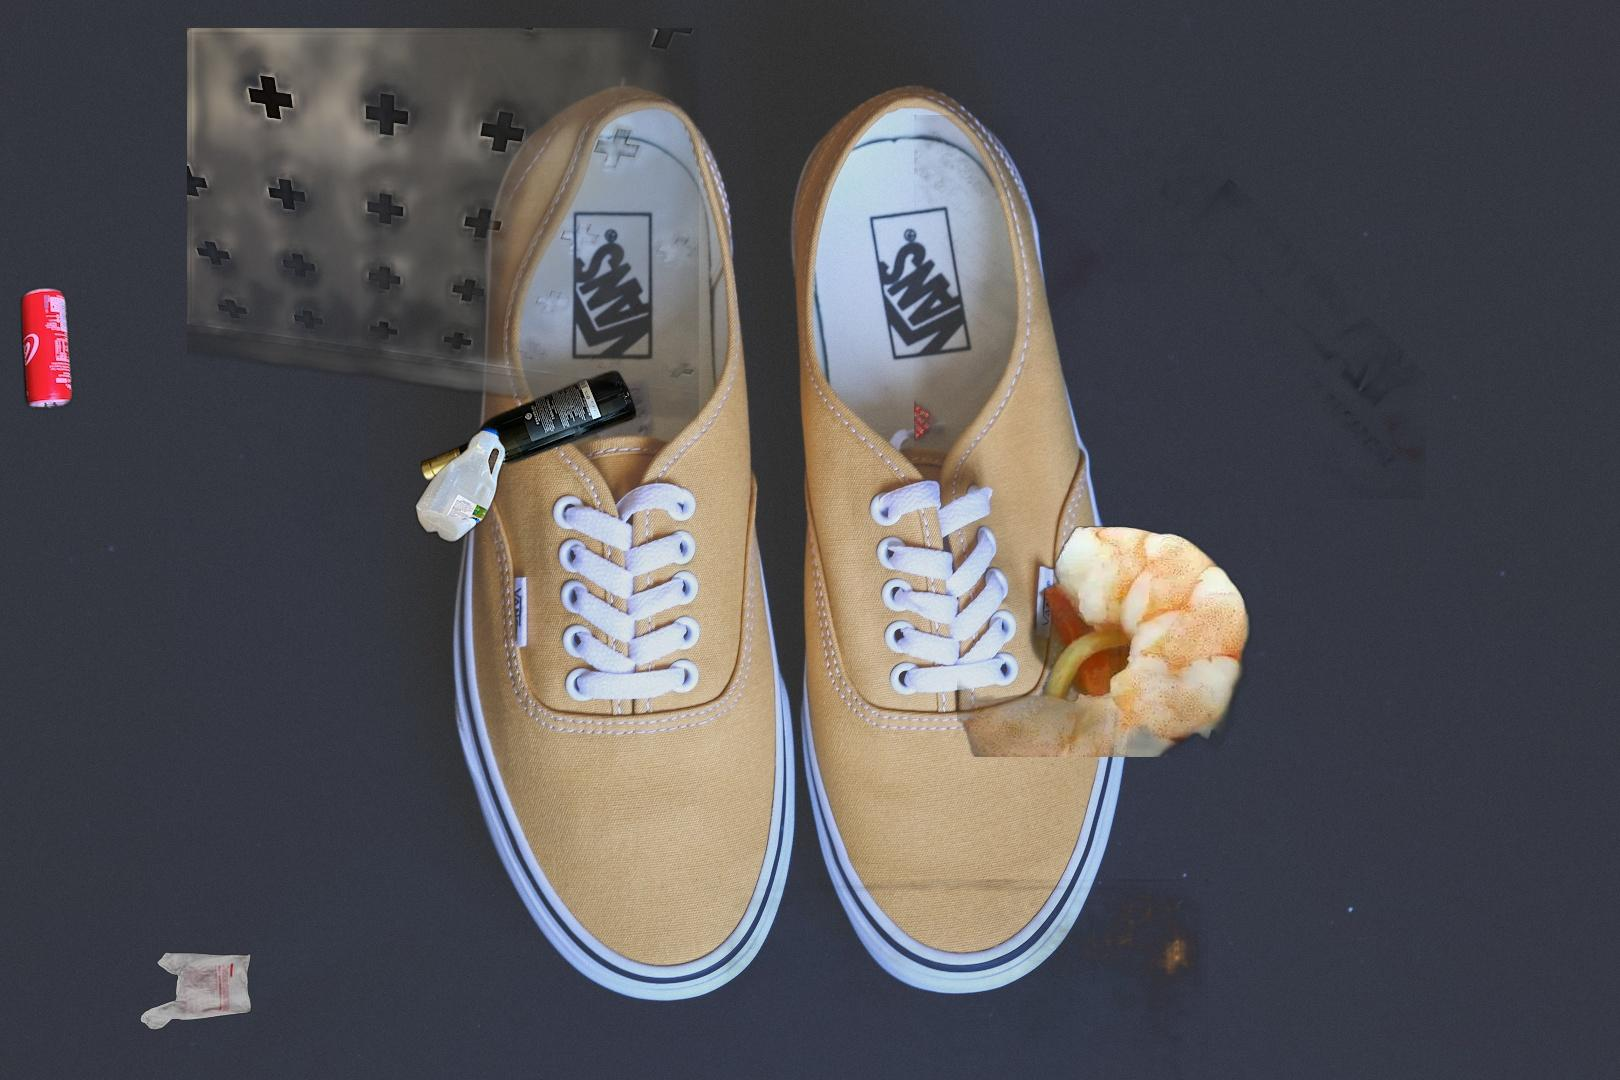biological: (957, 517, 1361, 757)
glass: (416, 366, 641, 486)
metal-cans: (17, 282, 77, 415)
paper: (914, 115, 1426, 499)
plastic-bag: (137, 949, 252, 1033)
plastic-bottles: (187, 28, 699, 681)
trashbox-cardboard: (695, 879, 1208, 1080)
